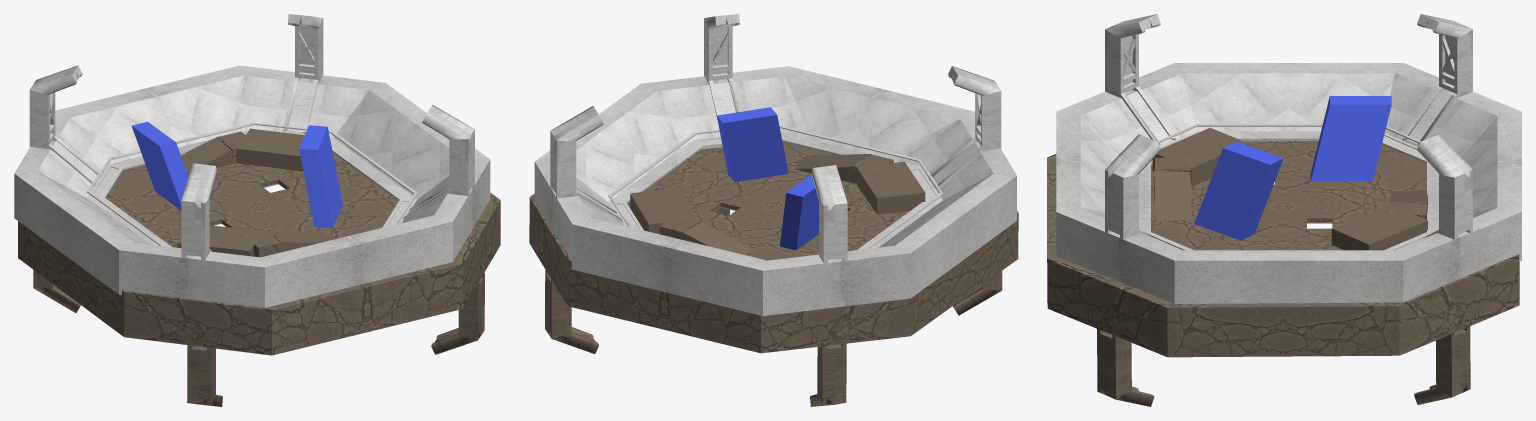
File: finalArea.glb
3 views of the same model, side by side, from view 1: azimuth 30°, elevation 25°; view 2: azimuth 150°, elevation 25°; view 3: azimuth 270°, elevation 25° (orthographic). The views are drawn at different scales.
Visible parts, largest first — view 1: Cube-col, Cube, entity0_brush5-col, entity0_brush4-col, entity0_brush9-col, entity0_brush8-col, entity0_brush7-col, entity0_brush6-col, Cube2-col, Cube3-col; view 2: Cube-col, Cube, entity0_brush5-col, entity0_brush8-col, entity0_brush4-col, entity0_brush9-col, entity0_brush7-col, entity0_brush6-col, Cube3-col, Cube2-col; view 3: Cube-col, Cube, entity0_brush4-col, entity0_brush5-col, entity0_brush9-col, entity0_brush8-col, entity0_brush6-col, Cube2-col, Cube3-col, entity0_brush7-col.
Boxes of the visible parts, x1,y1,x2,y2 form: Cube-col: (14,14,490,307); Cube: (18,152,500,406); entity0_brush5-col: (299,125,342,227); entity0_brush4-col: (131,121,188,210); entity0_brush9-col: (236,128,304,171); entity0_brush8-col: (177,225,261,256); entity0_brush7-col: (181,136,234,174); entity0_brush6-col: (264,231,335,252); Cube2-col: (242,230,282,257); Cube3-col: (216,131,256,163); Cube-col: (534,14,1016,315); Cube: (529,143,1018,406); entity0_brush5-col: (717,107,788,181); entity0_brush8-col: (856,161,925,214); entity0_brush4-col: (780,174,818,250); entity0_brush9-col: (630,188,696,234); entity0_brush7-col: (681,220,751,254); entity0_brush6-col: (794,154,870,183); Cube3-col: (659,214,701,239); Cube2-col: (852,154,893,183); Cube-col: (1056,14,1521,303); Cube: (1047,141,1519,406); entity0_brush4-col: (1310,96,1391,181); entity0_brush5-col: (1194,141,1283,240); entity0_brush9-col: (1331,204,1427,250); entity0_brush8-col: (1152,127,1248,186); entity0_brush6-col: (1154,168,1191,221); Cube2-col: (1155,157,1190,178); Cube3-col: (1390,202,1427,219); entity0_brush7-col: (1391,190,1428,212).
Bounding box in the file's own units: 68.5 × 41.53 × 68.2.
Materials: 3 (2 with a texture image).
